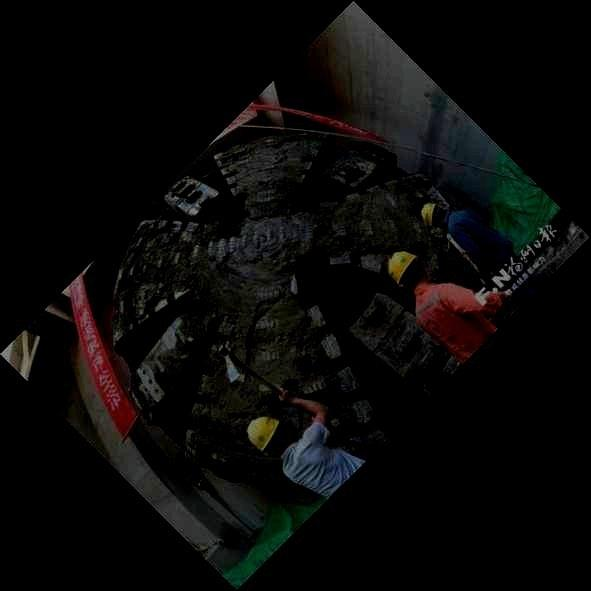helmet: (246, 416, 288, 457), (387, 251, 422, 289), (421, 203, 445, 228)
